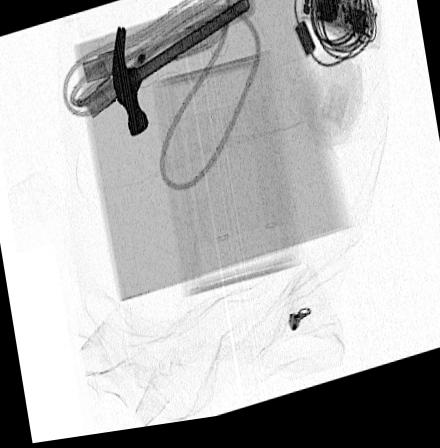Hammer: (111, 0, 257, 141)
